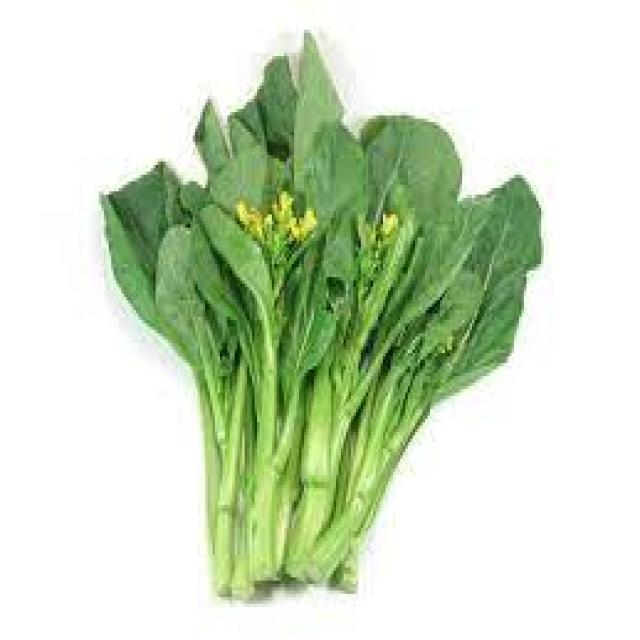bokchoy: (96, 32, 552, 614)
